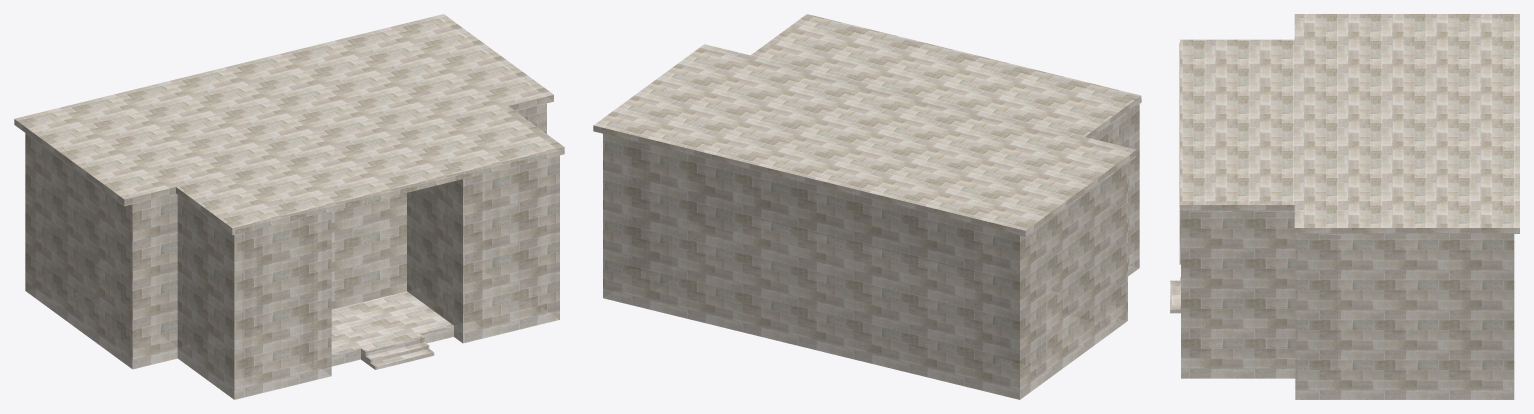
The model's file is demo1.obj.
3 views of the same model, side by side, from view 1: azimuth 30°, elevation 25°; view 2: azimuth 150°, elevation 25°; view 3: azimuth 270°, elevation 25° (orthographic). The views are drawn at different scales.
Visible parts, largest first — view 1: Mesh1 Model; view 2: Mesh1 Model; view 3: Mesh1 Model.
Boxes of the visible parts, left/top/right/bottom form: Mesh1 Model: left=14, top=14, right=564, bottom=399; Mesh1 Model: left=593, top=14, right=1141, bottom=399; Mesh1 Model: left=1170, top=14, right=1519, bottom=399.
Size of the model in its own units: 148 by 56.71 by 102.
1 material, 1 textured.
